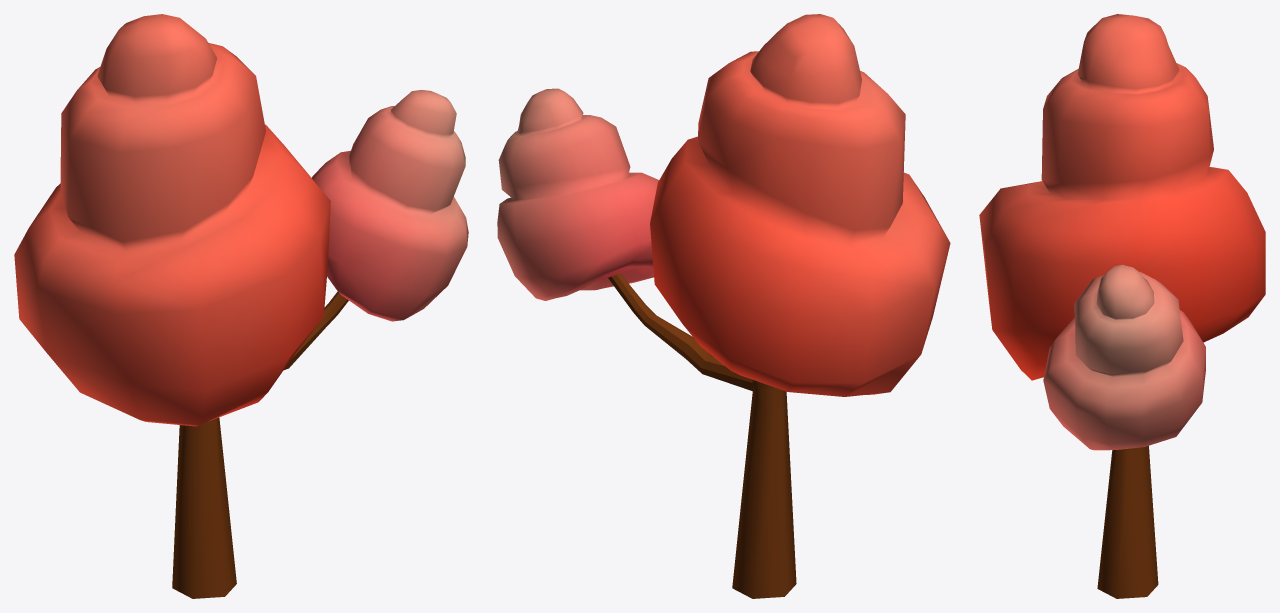
Rendered from SM_Tree_30.fbx.
3 views of the same model, side by side, from view 1: azimuth 30°, elevation 25°; view 2: azimuth 150°, elevation 25°; view 3: azimuth 270°, elevation 25° (orthographic). The views are drawn at different scales.
Visible parts, largest first — view 1: SM_Tree_30; view 2: SM_Tree_30; view 3: SM_Tree_30.
Boxes of the visible parts, bbox=[...] form: SM_Tree_30: bbox=[14, 14, 468, 598]; SM_Tree_30: bbox=[497, 14, 950, 598]; SM_Tree_30: bbox=[979, 14, 1265, 598].
Bounding box in the file's own units: 639 × 830 × 394.
